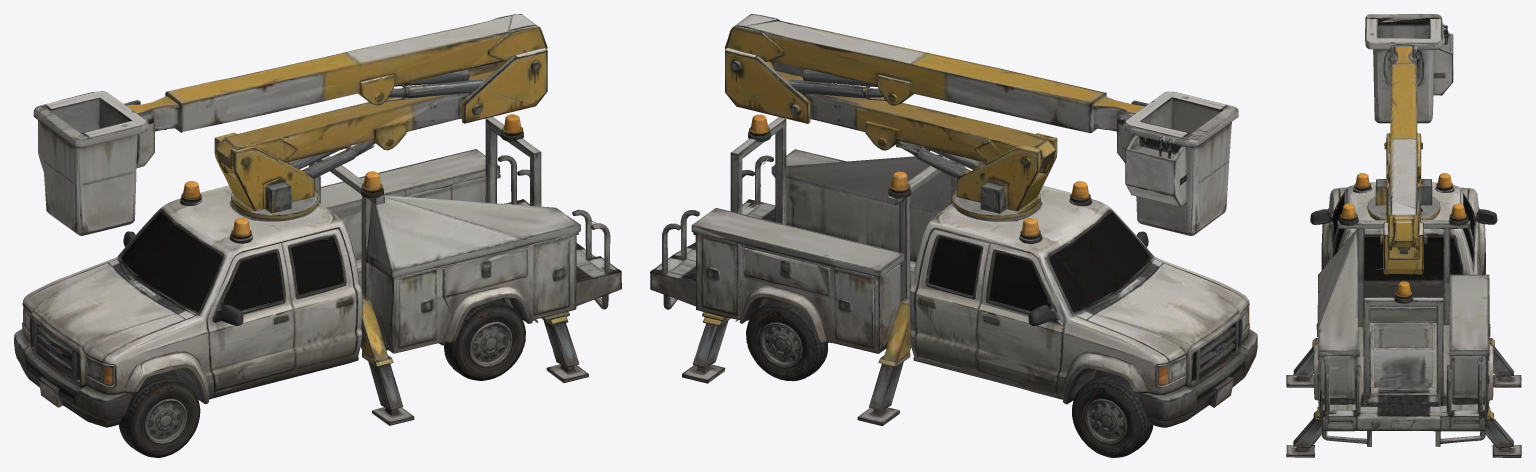
Rendered from ewp_truck.glb.
The picture shows the model from 3 angles, left to right: view 1: azimuth 30°, elevation 25°; view 2: azimuth 150°, elevation 25°; view 3: azimuth 270°, elevation 25°; orthographic projection. The views are drawn at different scales.
Bounding box in the file's own units: 1.9 × 1.08 × 0.8935.
Materials: 1 (1 with a texture image).
